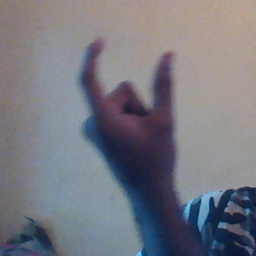U: (77, 36, 181, 172)
